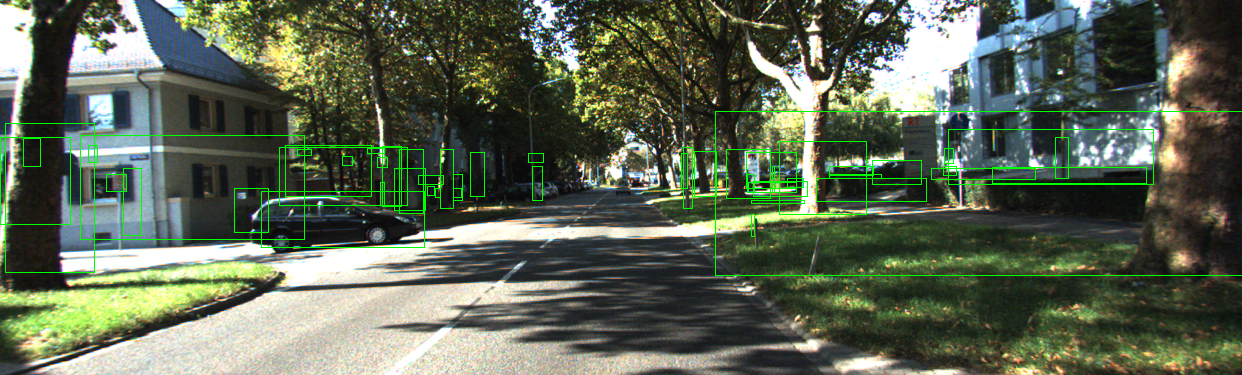car: (250, 195, 423, 253), (488, 182, 536, 201)
